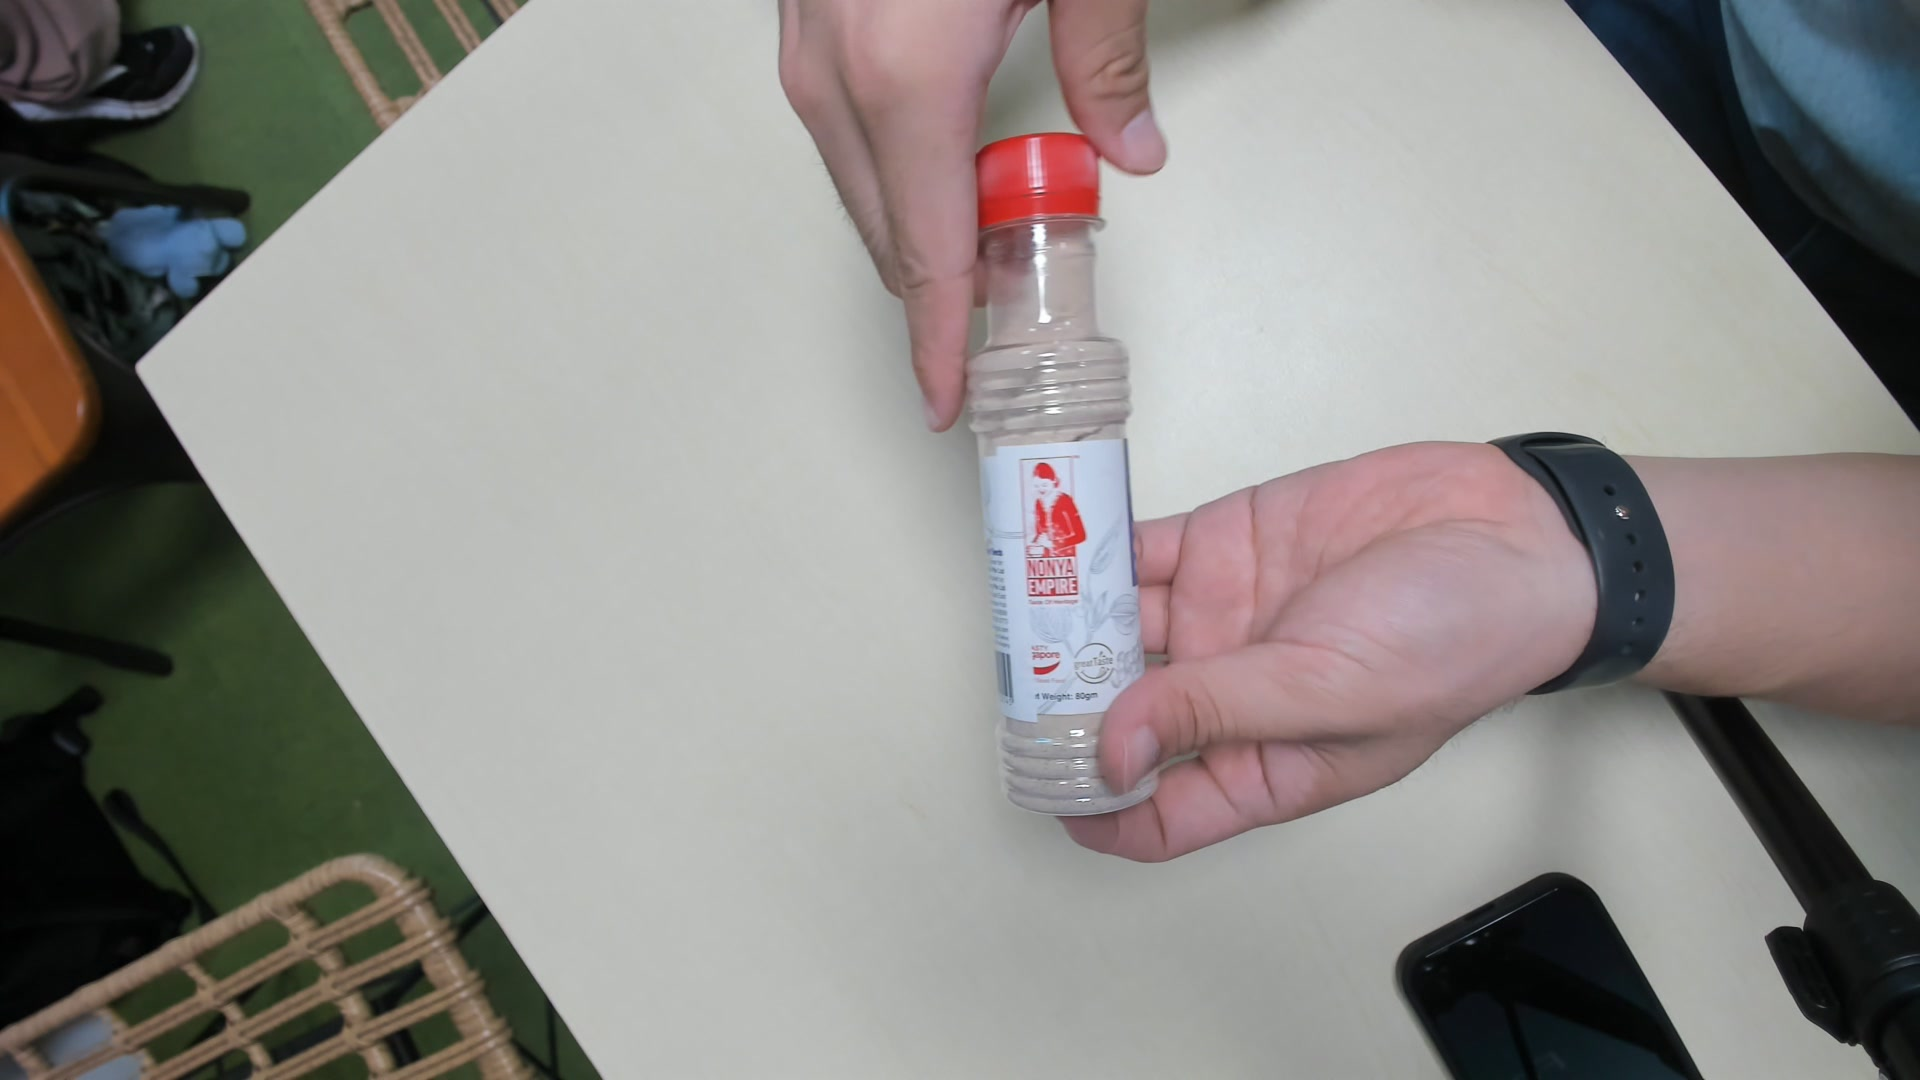HerbsSpicesPepper_0-99g_NonHalal_NonHealthy: (968, 135, 1153, 814)
